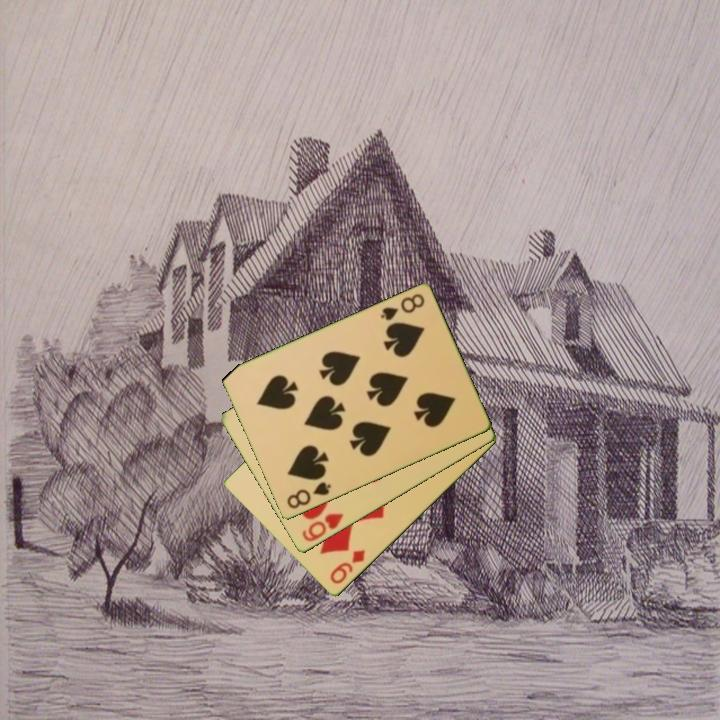6h: (298, 510, 346, 545)
8s: (376, 290, 427, 324), (283, 479, 334, 512)
9d: (326, 546, 368, 588)
